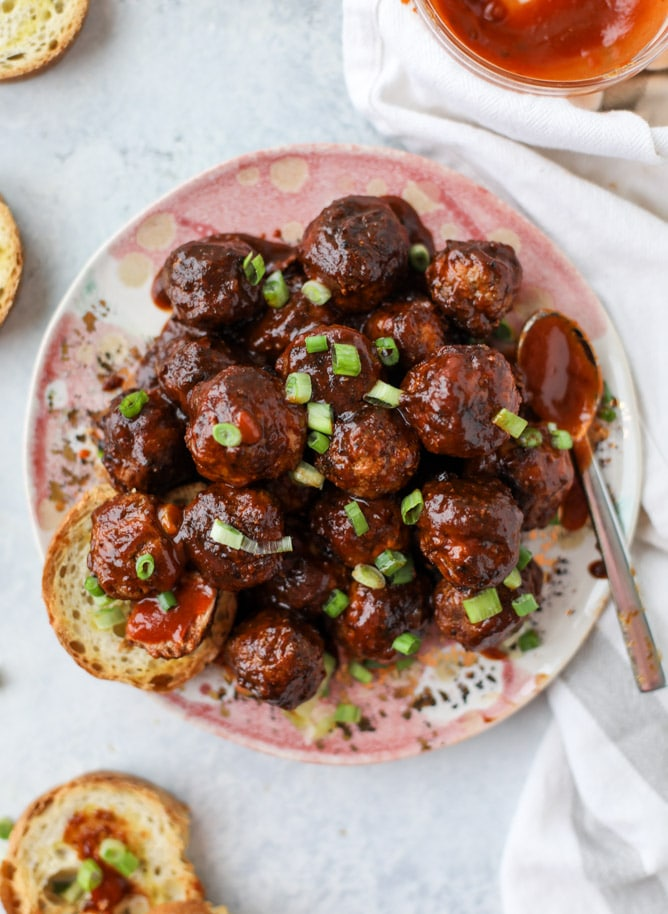meatballs: (412, 353, 516, 458), (297, 202, 403, 297), (412, 486, 513, 579), (190, 379, 294, 468), (229, 606, 316, 706), (89, 497, 180, 592), (427, 239, 520, 330), (167, 235, 257, 329), (188, 490, 278, 583), (92, 390, 179, 485), (313, 416, 408, 502), (286, 321, 374, 406), (146, 334, 240, 403), (370, 303, 447, 375), (330, 584, 407, 651), (321, 500, 396, 568), (439, 574, 515, 641), (513, 442, 574, 517)
slice of bread: (11, 767, 212, 914), (35, 541, 212, 686)
